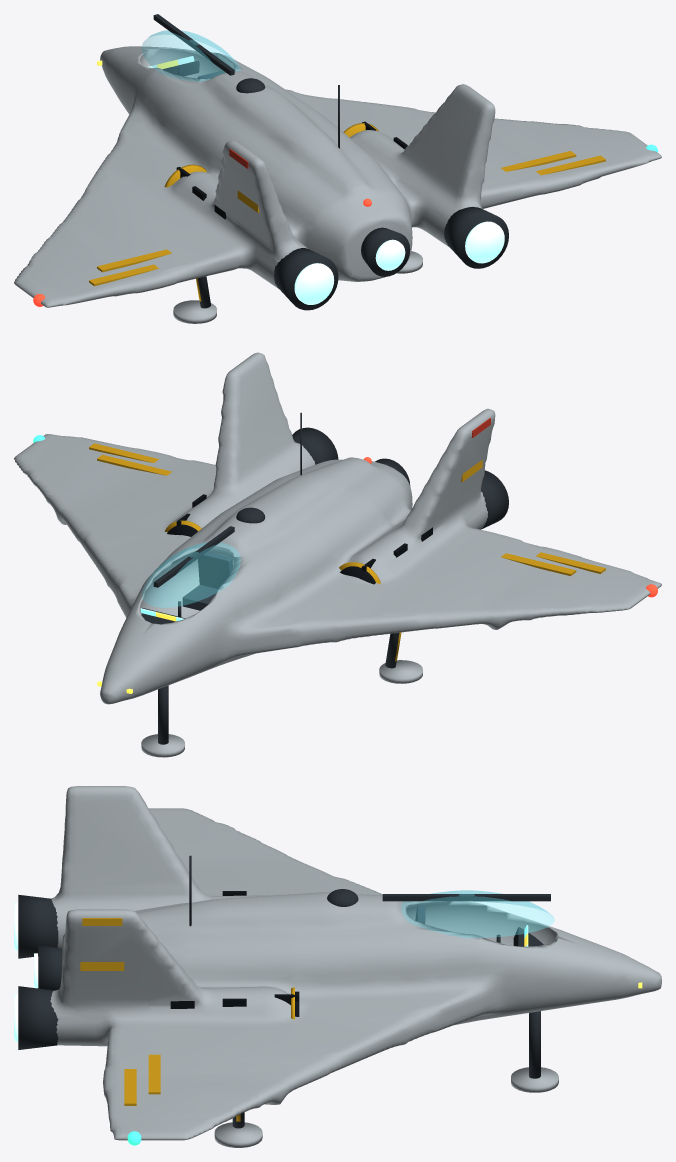
File: lander.glb
3 renders of one model, top to bottom at view 1: azimuth 30°, elevation 25°; view 2: azimuth 150°, elevation 25°; view 3: azimuth 270°, elevation 25°, orthographic. The views are drawn at different scales.
Parts seen in each view (by area): view 1: Hull, Canopy, Nozzle1, Nozzle-1, Exhaust1, Exhaust-1, CentreNozzle, GearLPad, CanopySpine, CentreExhaust, WingStripe-1, WingStripe1 (+2 smaller); view 2: Hull, Canopy, Nozzle-1, SeatBack, Nozzle1, GearLPad, GearNPad, CanopySpine, GearNStrut, Seat; view 3: Hull, Canopy, Nozzle1, Nozzle-1, CanopySpine, CentreNozzle, GearRPad, GearNPad, GearNStrut, WingStripe1.
Part boxes in pixels (box(x1,y1,x2,y2)): Hull: box(14, 46, 661, 307); Canopy: box(142, 30, 240, 81); Nozzle1: box(444, 207, 508, 268); Nozzle-1: box(274, 248, 338, 310); Exhaust1: box(465, 221, 504, 263); Exhaust-1: box(294, 263, 334, 304); CentreNozzle: box(361, 227, 410, 276); GearLPad: box(173, 300, 216, 323); CanopySpine: box(153, 14, 234, 75); CentreExhaust: box(375, 239, 405, 270); WingStripe-1: box(97, 249, 171, 272); WingStripe1: box(501, 151, 576, 171); Hull: box(14, 352, 661, 704); Canopy: box(142, 542, 240, 607); Nozzle-1: box(481, 470, 508, 529); SeatBack: box(198, 551, 232, 588); Nozzle1: box(292, 427, 338, 464); GearLPad: box(379, 660, 422, 683); GearNPad: box(141, 734, 184, 757); CanopySpine: box(153, 526, 234, 587); GearNStrut: box(158, 685, 168, 744); Seat: box(182, 585, 217, 610); Hull: box(50, 786, 661, 1140); Canopy: box(401, 890, 554, 937); Nozzle1: box(18, 986, 58, 1049); Nozzle-1: box(18, 894, 58, 958); CanopySpine: box(382, 894, 550, 901); CentreNozzle: box(38, 944, 62, 990); GearRPad: box(214, 1122, 262, 1147); GearNPad: box(511, 1067, 558, 1092); GearNStrut: box(529, 1011, 540, 1078); WingStripe1: box(148, 1054, 160, 1094).
Size of the model in its own units: 9.86 by 3.26 by 8.09.
